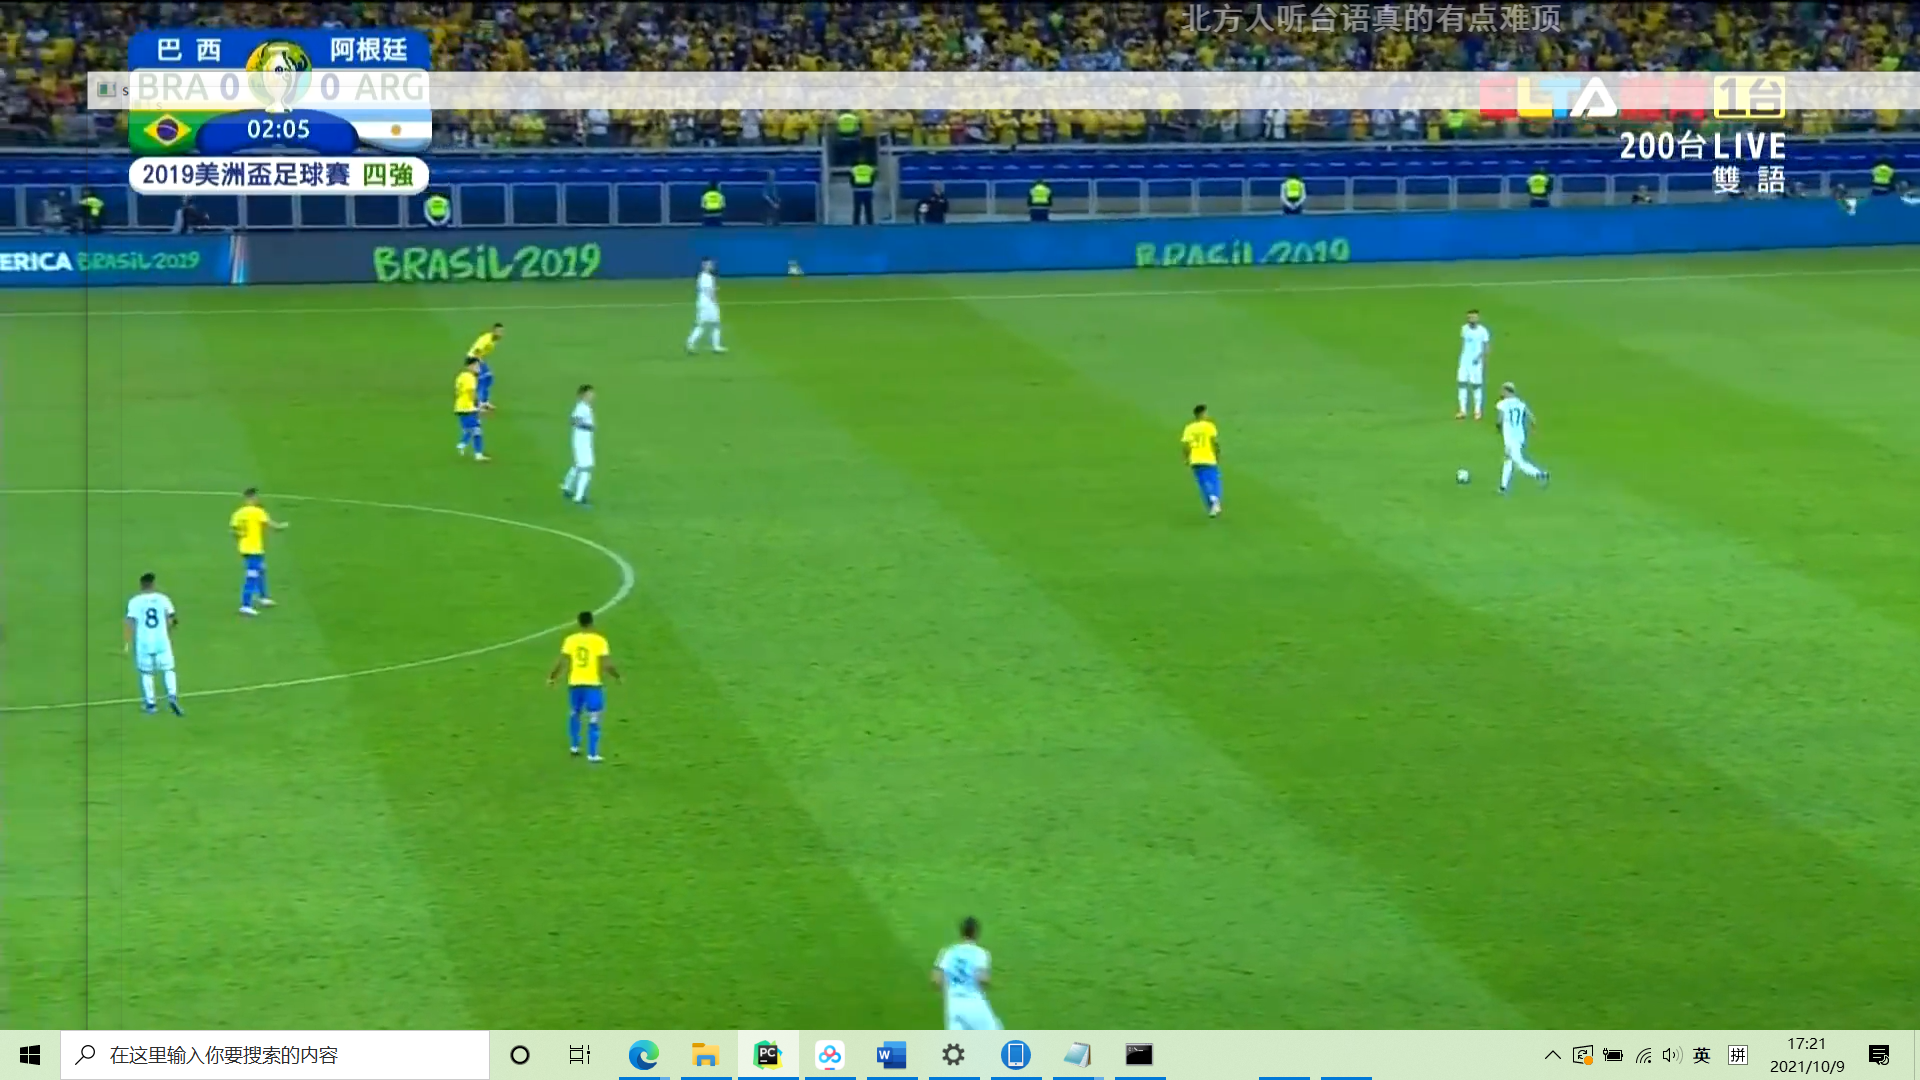ft: (1455, 469, 1468, 484)
